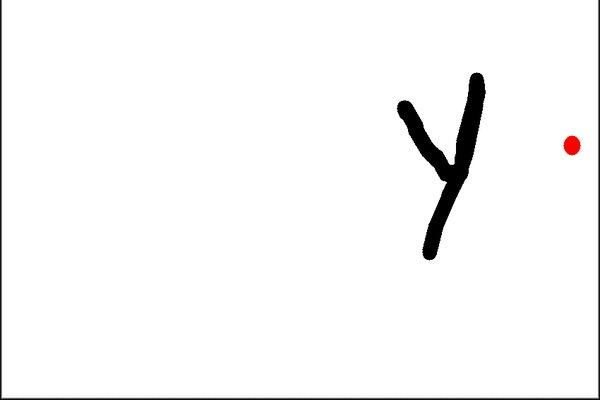Y: (376, 64, 511, 307)
